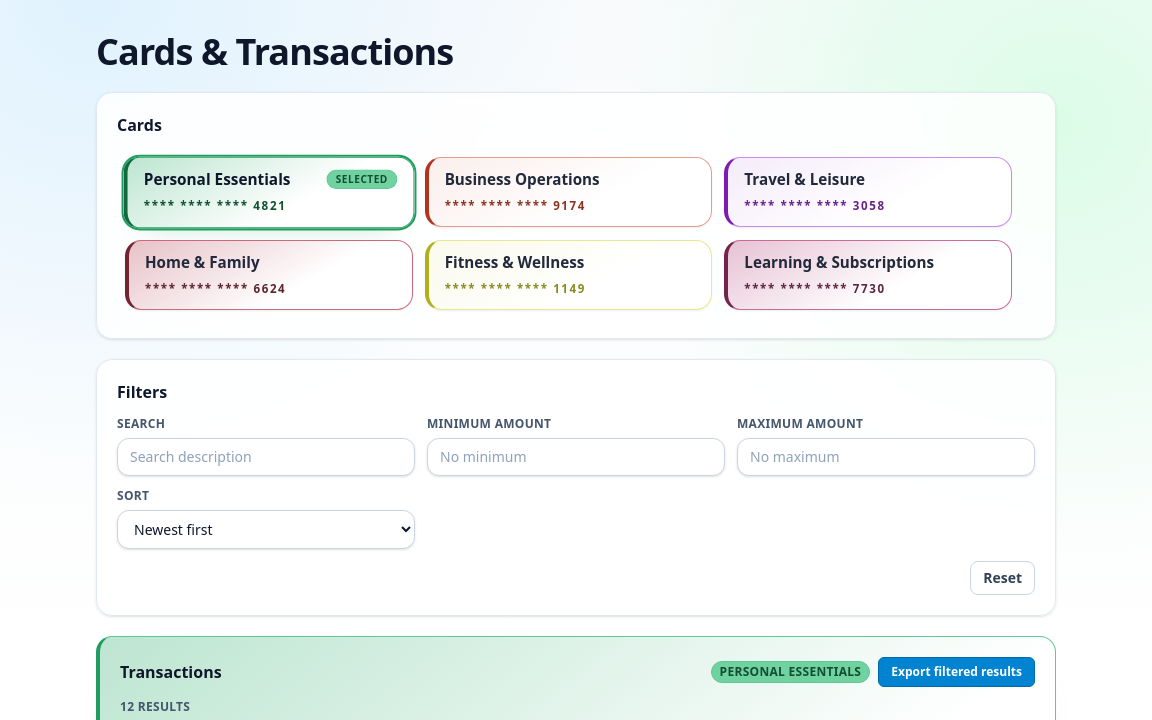
it: CardsOverview integration › clears amount filters via reset
The width and height of the screenshot is (1152, 720).
In the number field labelled "Minimum amount": (576, 457) [427,438,725,476], type "300"
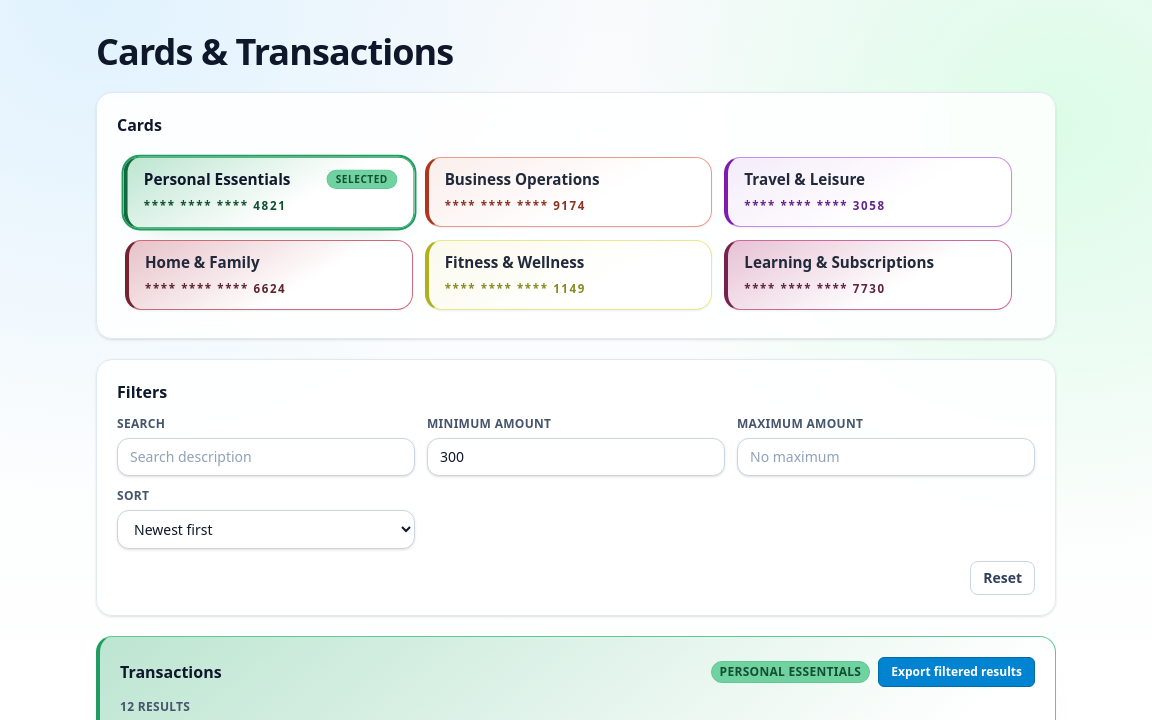
In the number field labelled "Maximum amount": (886, 457) [737,438,1035,476], type "100"
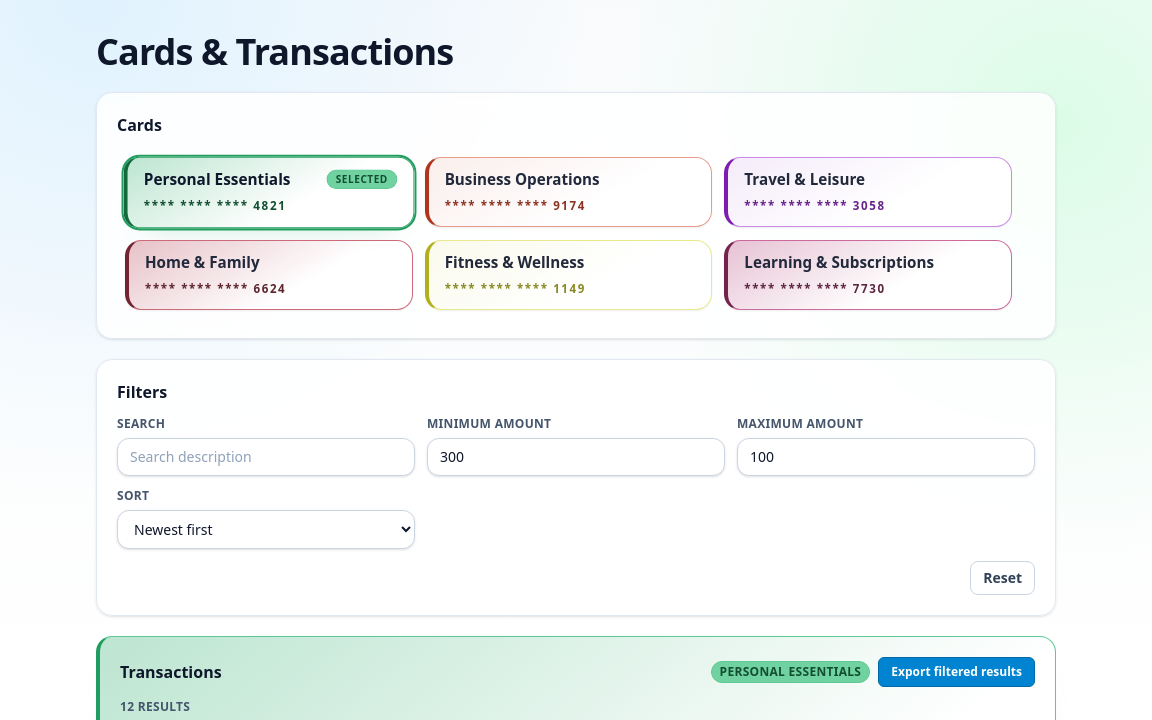
Click the button "Reset": (1003, 578) [970,561,1035,595]
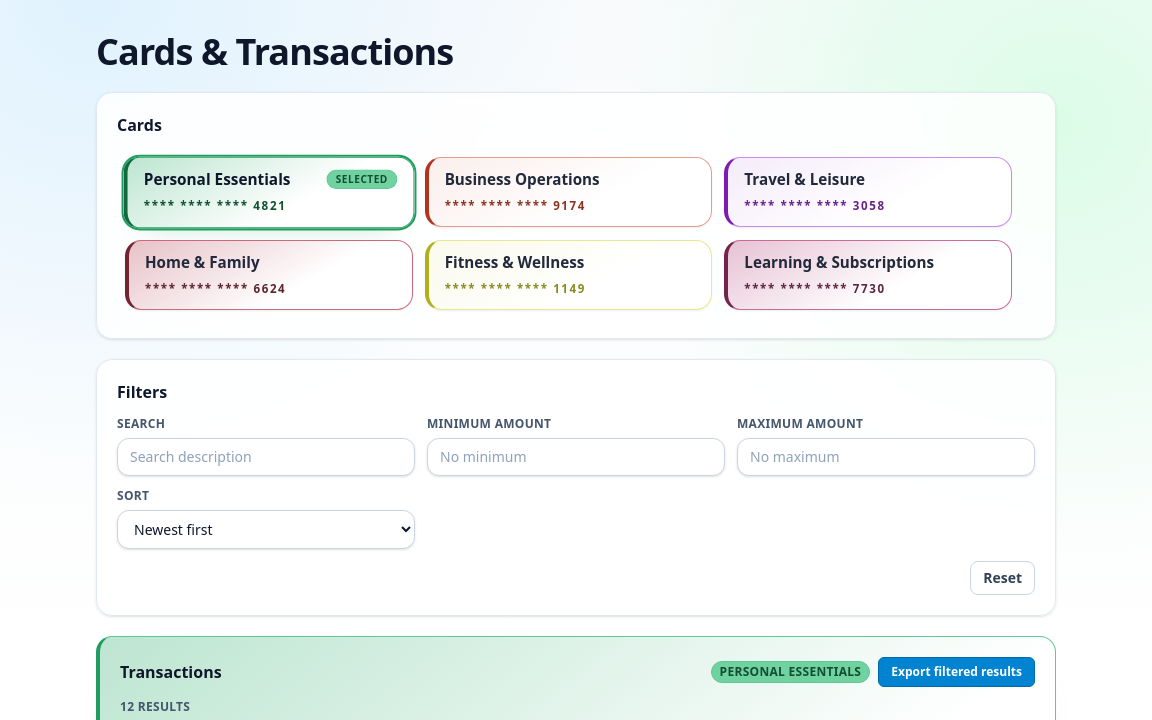
expect the number field labelled "Minimum amount" is empty: met, box [427,438,725,476]
expect the number field labelled "Maximum amount" is empty: met, box [737,438,1035,476]
